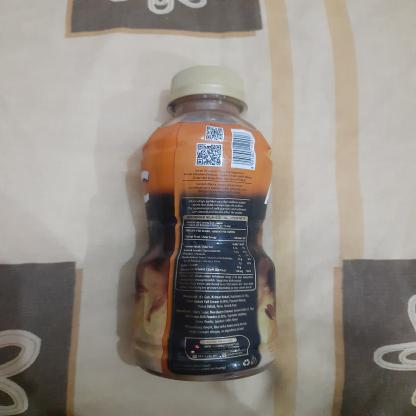bottle: (131, 63, 282, 385)
